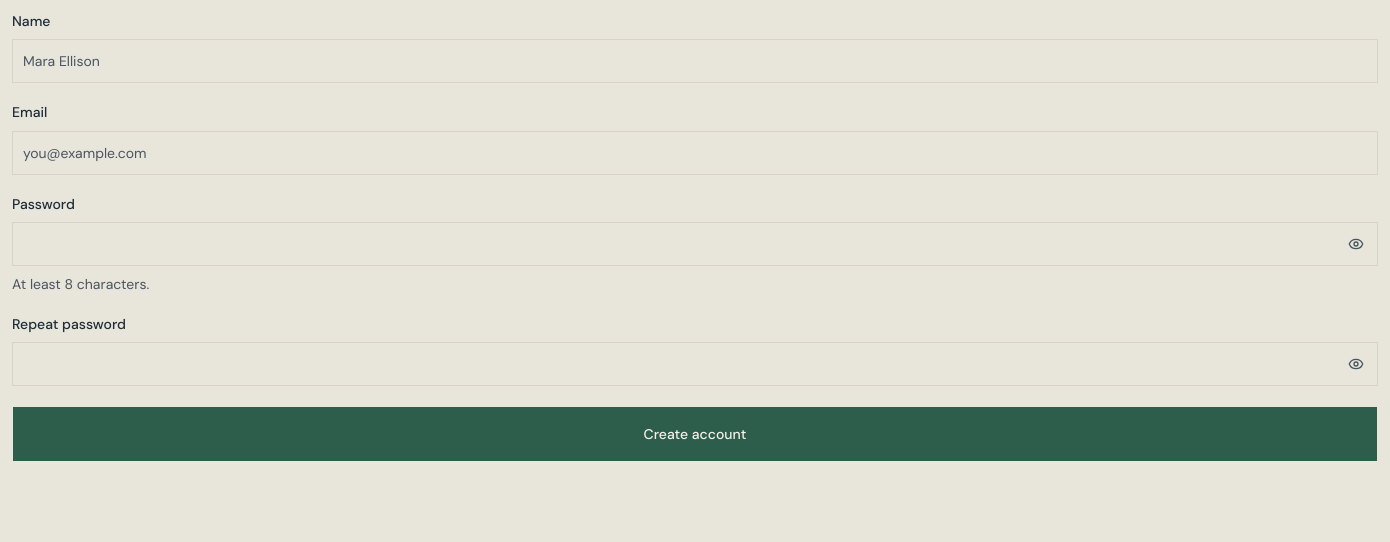
it: SignupForm › shows server-side validation errors and stays on the form
This screenshot has width=1390, height=542.
Type "Mara" into the field labelled "Name" at (695, 61), box [12,39,1378,83]
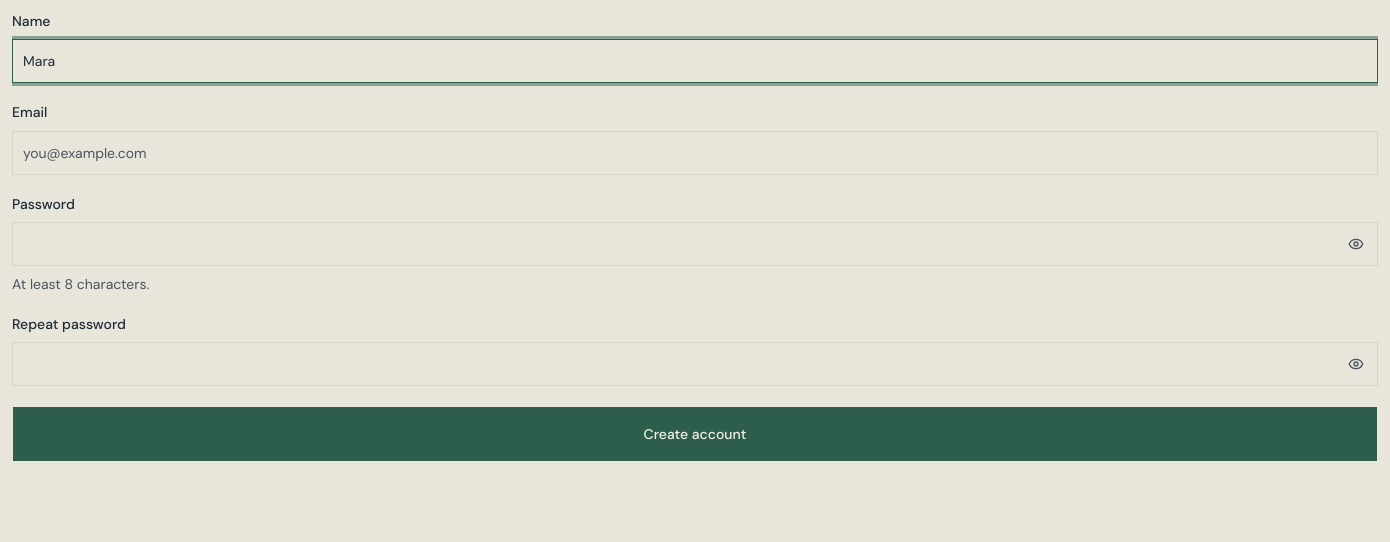
Type "odd@example.com" into the field labelled "Email" at (695, 152), box [12,130,1378,174]
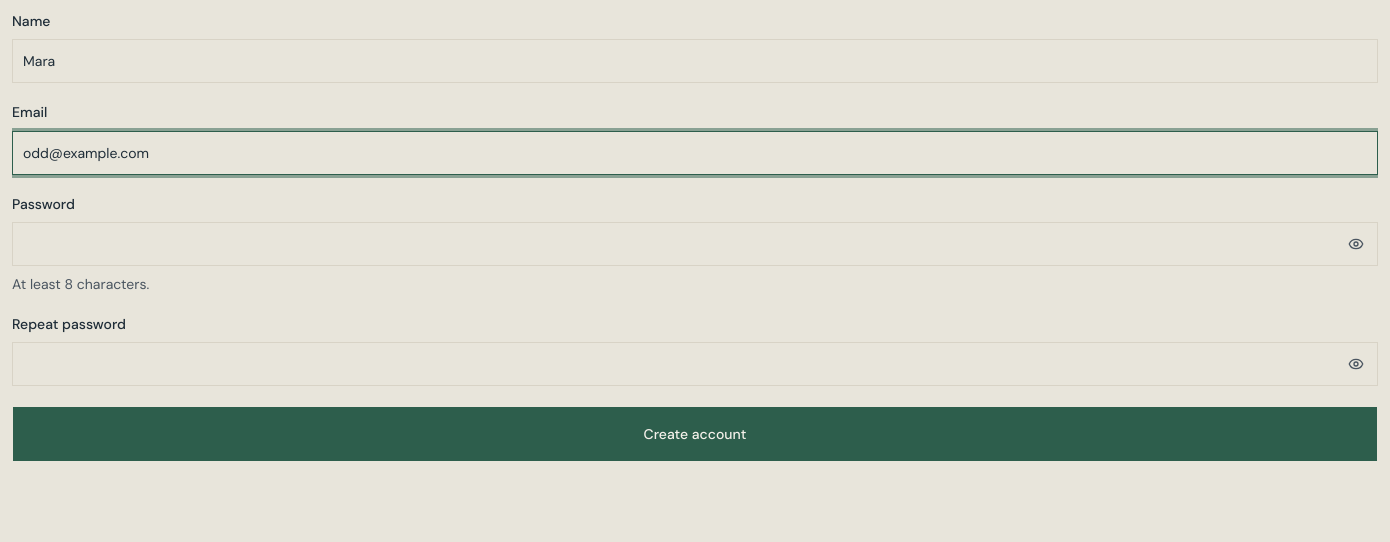
Type "long enough" into the password field labelled "Password" at (695, 244), box [12,222,1378,266]
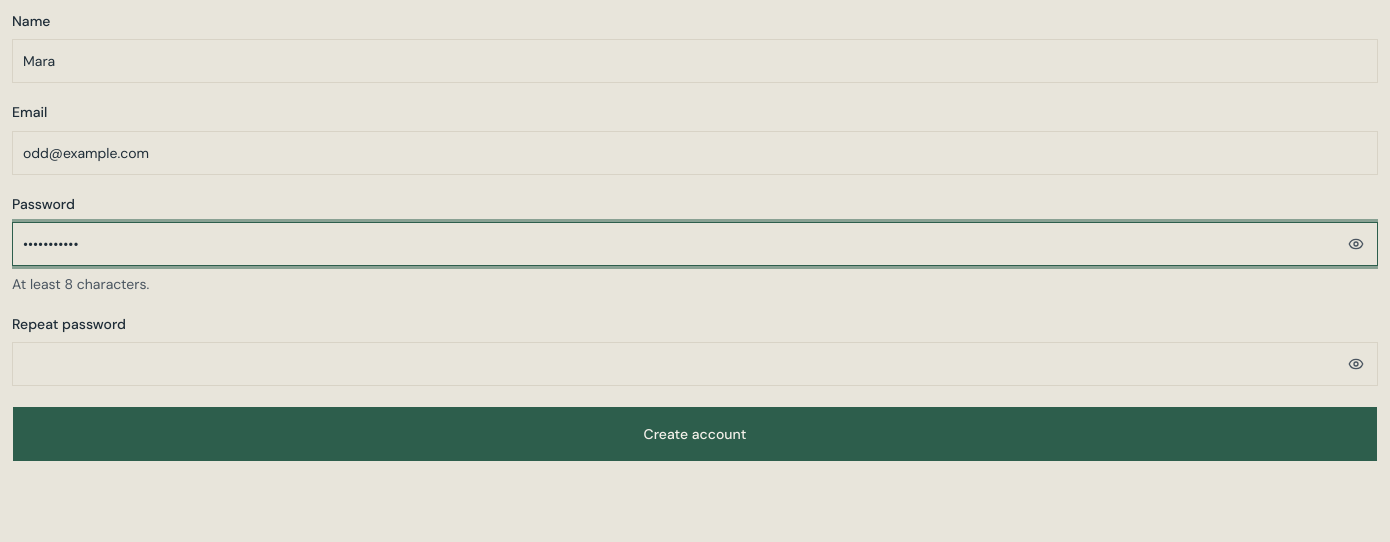
Type "long enough" into the password field labelled "Repeat password" at (695, 364), box [12,342,1378,386]
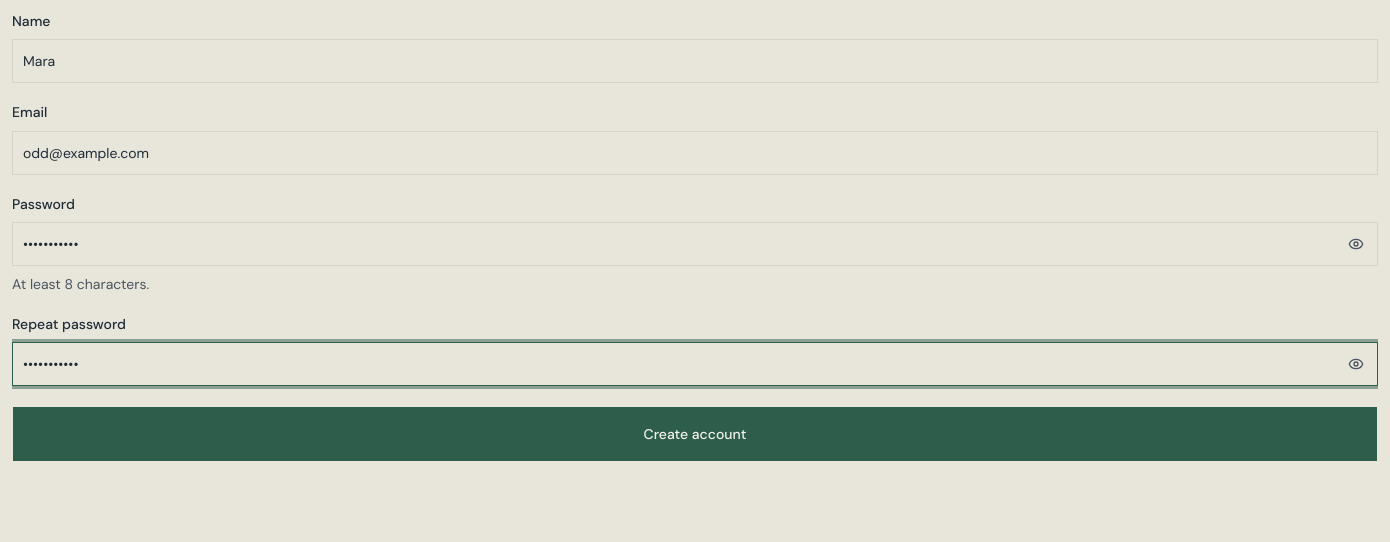
Click the button "Create account" at (695, 434), box [12,406,1378,462]
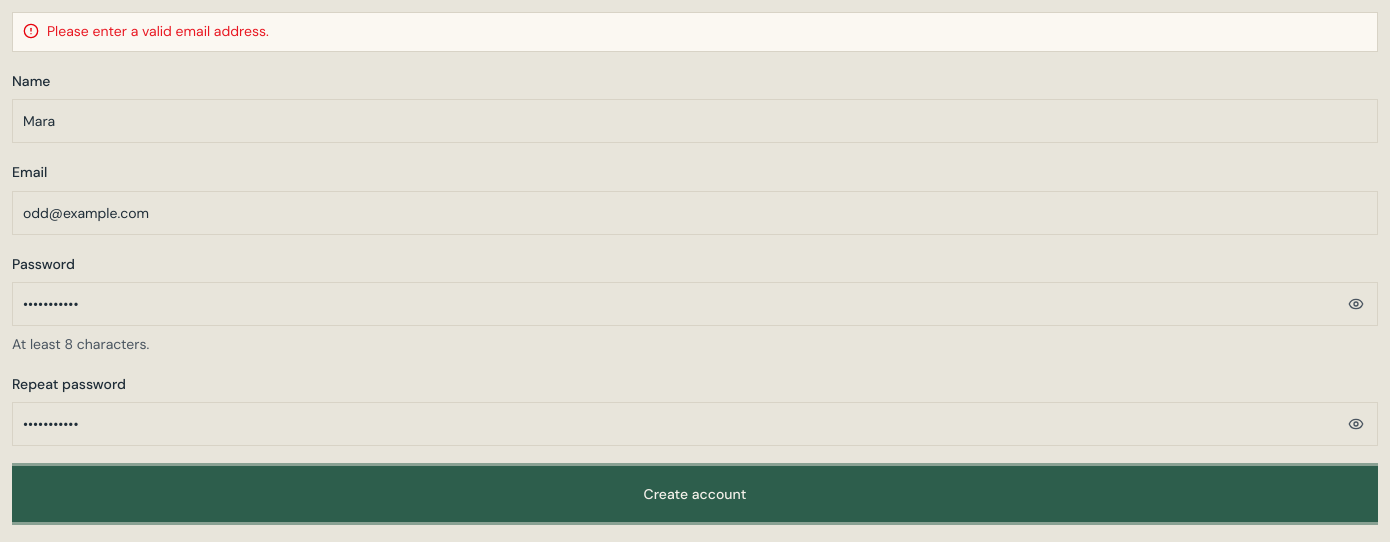
Result: the message reads "Please enter a valid email address." at [47,22,269,40]
